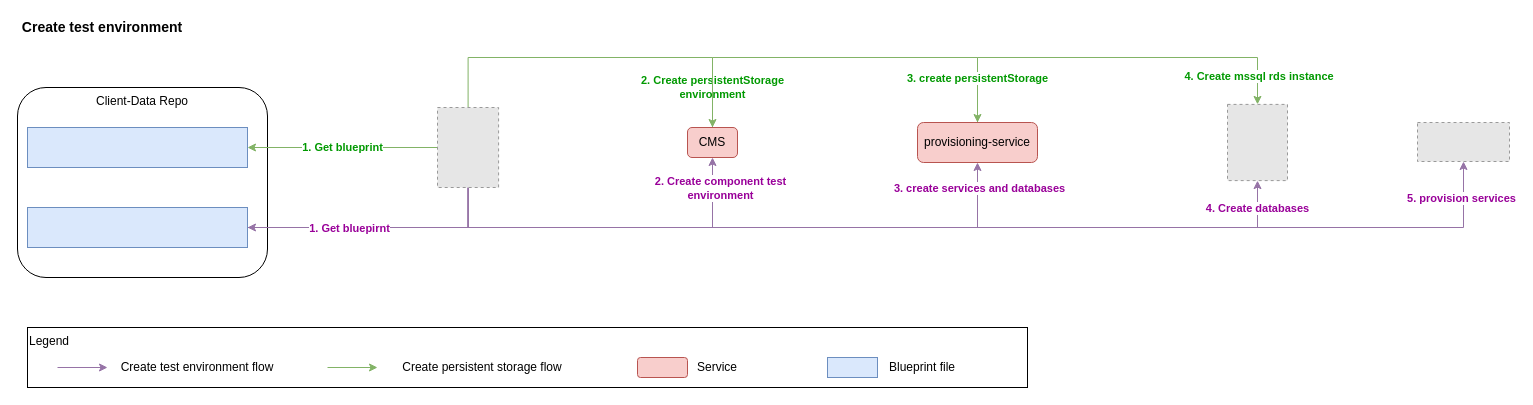
The diagram is 1533 pixels wide and 405 high, and some of its shapes have lost their labels. Grey dashed boxes stand in for pictures. Each missing label, with the centre of its shape:
"client-data-component-test-db-persistent-storage.yml" belongs at point 137,147.
"client-data-component-test.yml" belongs at point 137,227.
